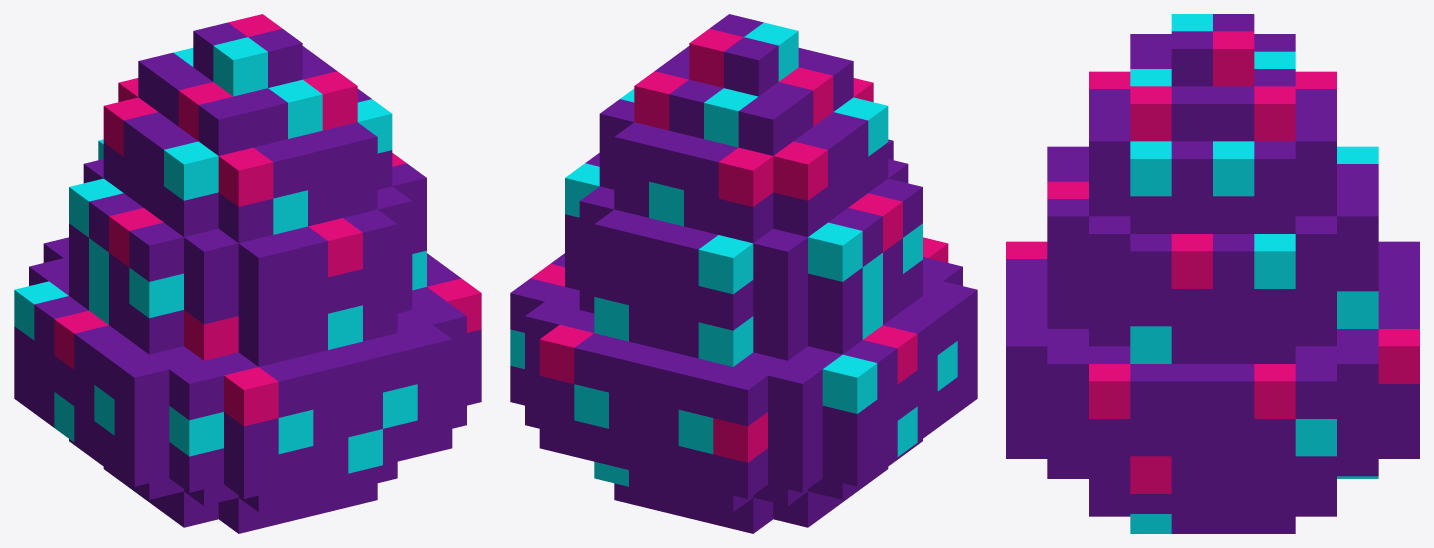
Rendered from Easter egg-0.obj.
3 views of the same model, side by side, from view 1: azimuth 30°, elevation 25°; view 2: azimuth 150°, elevation 25°; view 3: azimuth 270°, elevation 25° (orthographic). The views are drawn at different scales.
Size of the model in its own units: 1 by 1.2 by 1.
Materials: 1 (1 with a texture image).
